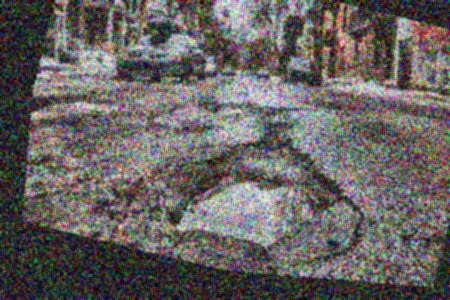pothole: (142, 103, 365, 280), (28, 83, 84, 124)
